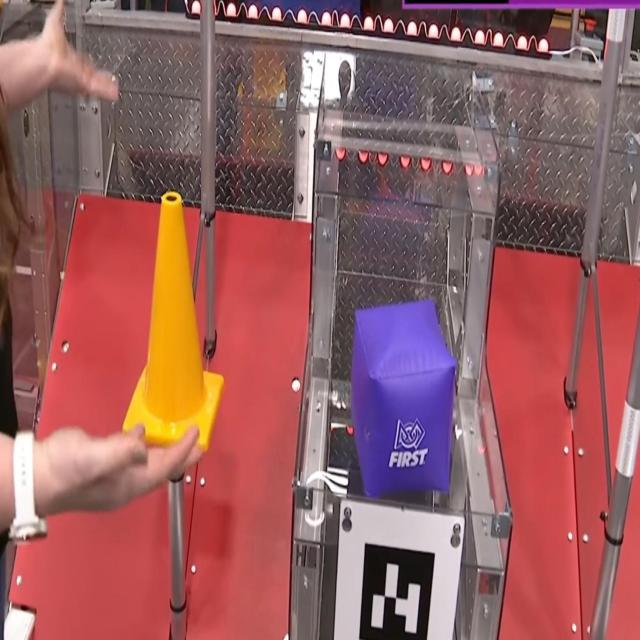frc_cone: (115, 184, 227, 464)
frc_cube: (347, 295, 460, 506)
